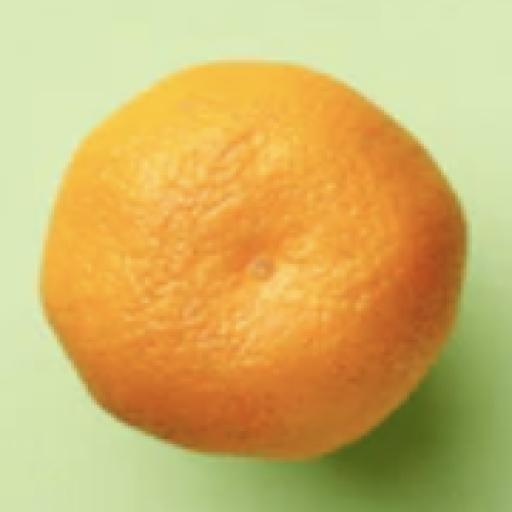orange: (43, 63, 466, 459)
